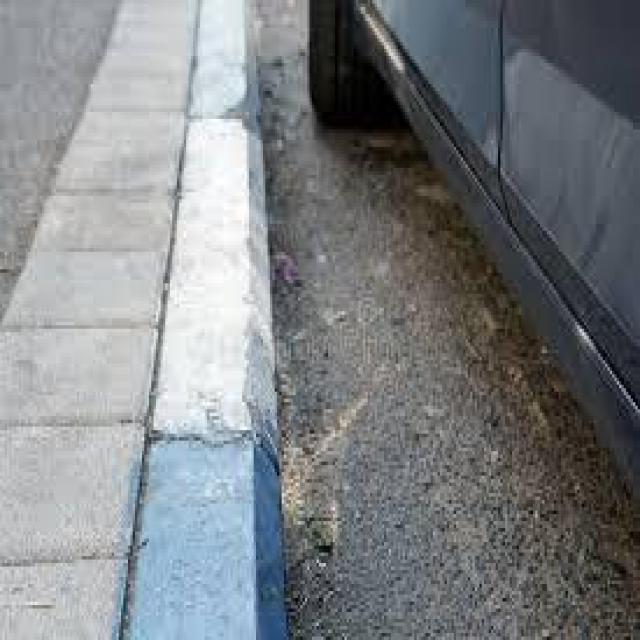curb: (121, 1, 290, 640)
